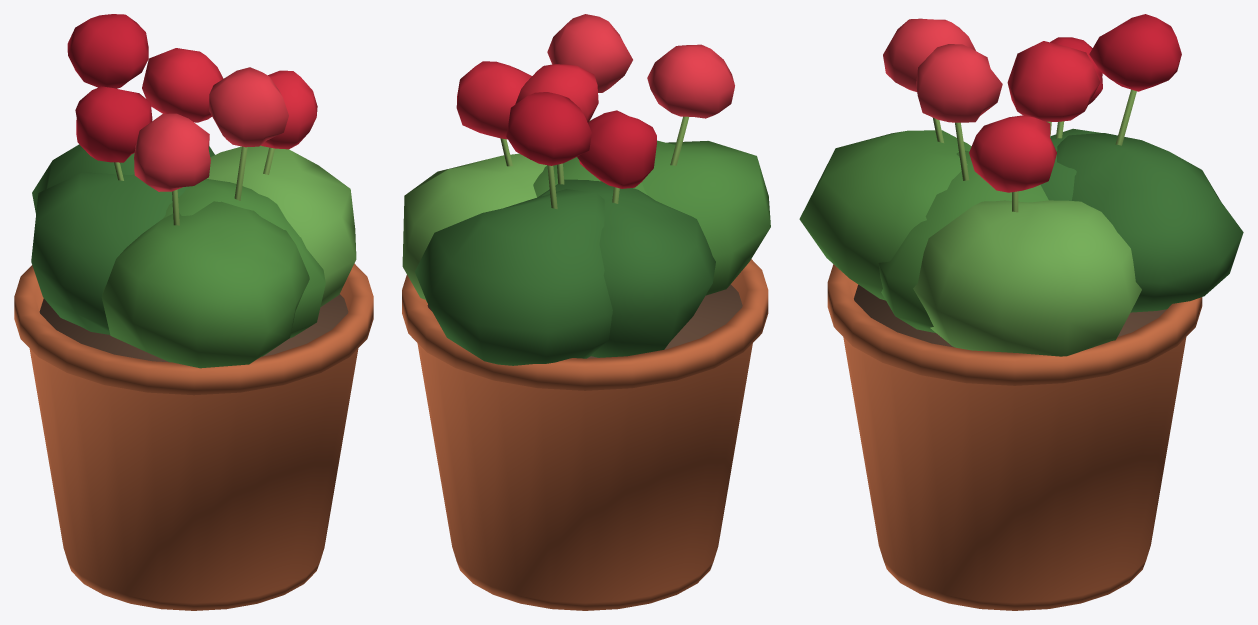
Rendered from geraniums.glb.
3 views of the same model, side by side, from view 1: azimuth 30°, elevation 25°; view 2: azimuth 150°, elevation 25°; view 3: azimuth 270°, elevation 25° (orthographic). The views are drawn at different scales.
Parts seen in each view (by area): view 1: geraniums; view 2: geraniums; view 3: geraniums.
Boxes of the visible parts, x1,y1,x2,y2 form: geraniums: (14,14,373,610); geraniums: (402,14,770,610); geraniums: (799,14,1243,610).
Bounding box in the file's own units: 0.424 × 0.6498 × 0.5027.
